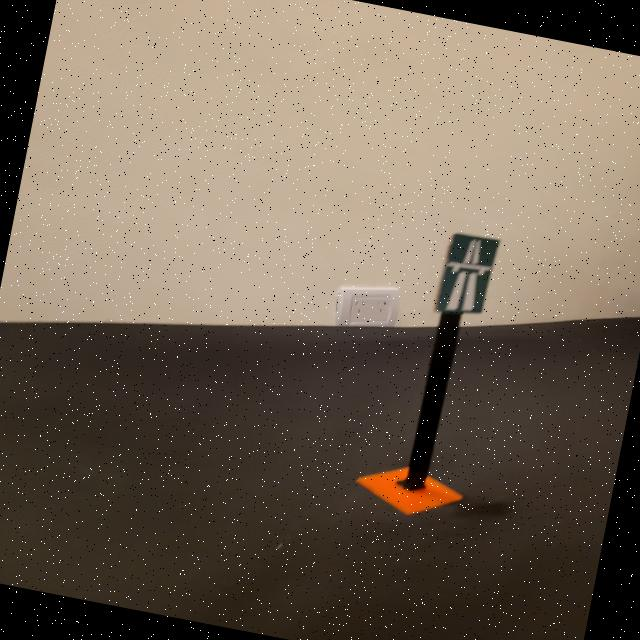highway_entrance: (435, 229, 496, 324)
